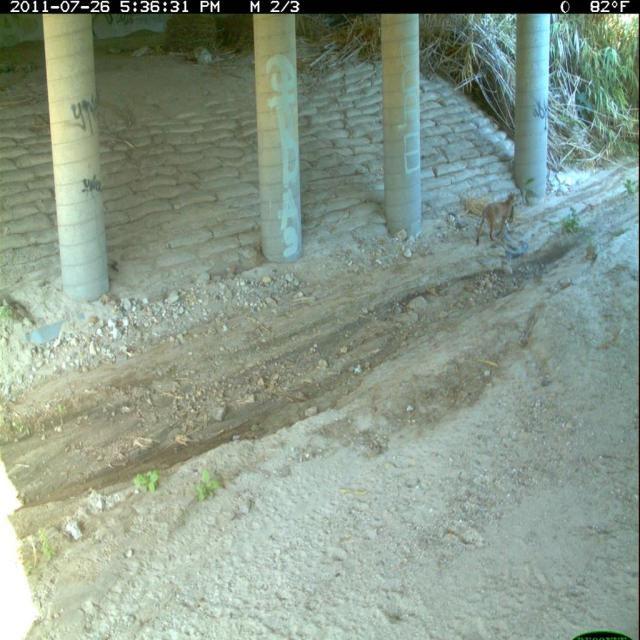bobcat: (473, 189, 521, 251)
rabbit: (508, 203, 518, 228)
